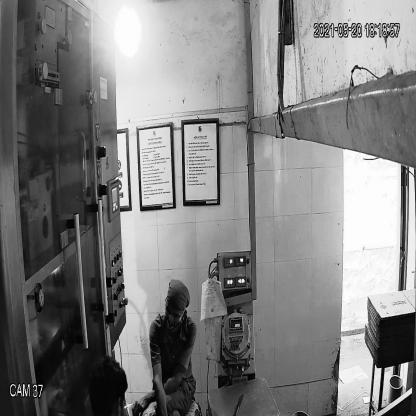goggles: (161, 302, 187, 324)
